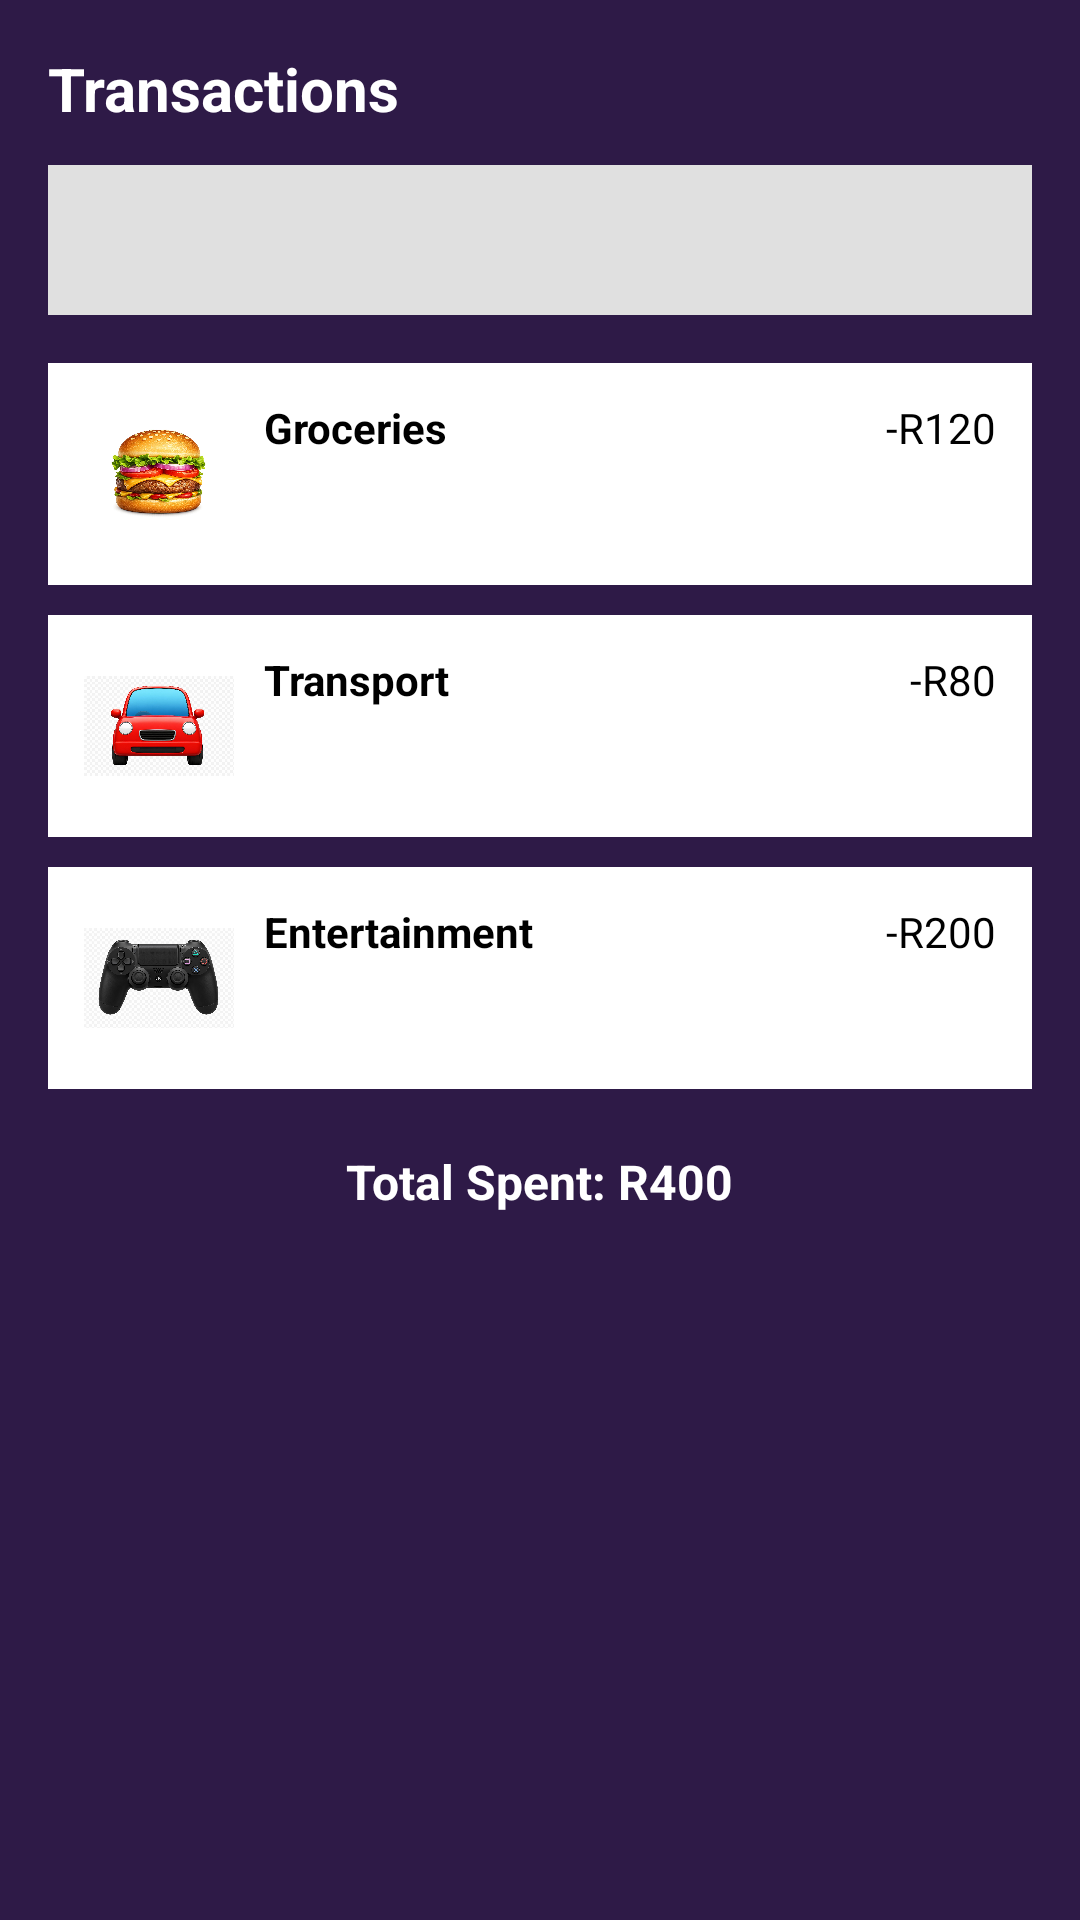

Named icons in this screenshot (1080×1920) and their bounding boxes, region(x1, y1, x2, y2):
car: region(111, 686, 204, 765)
